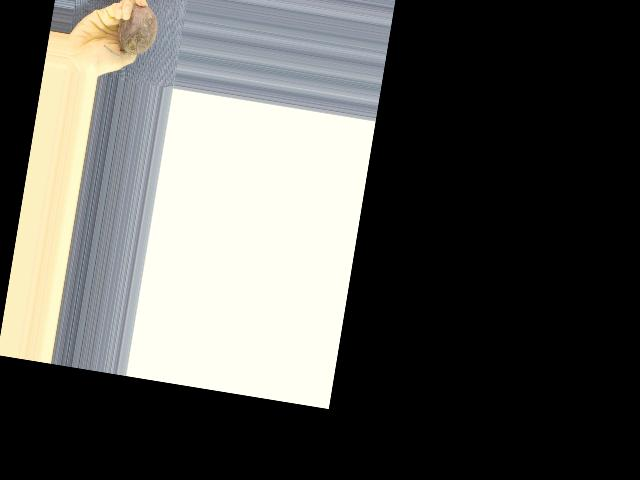beet: (101, 0, 160, 62)
